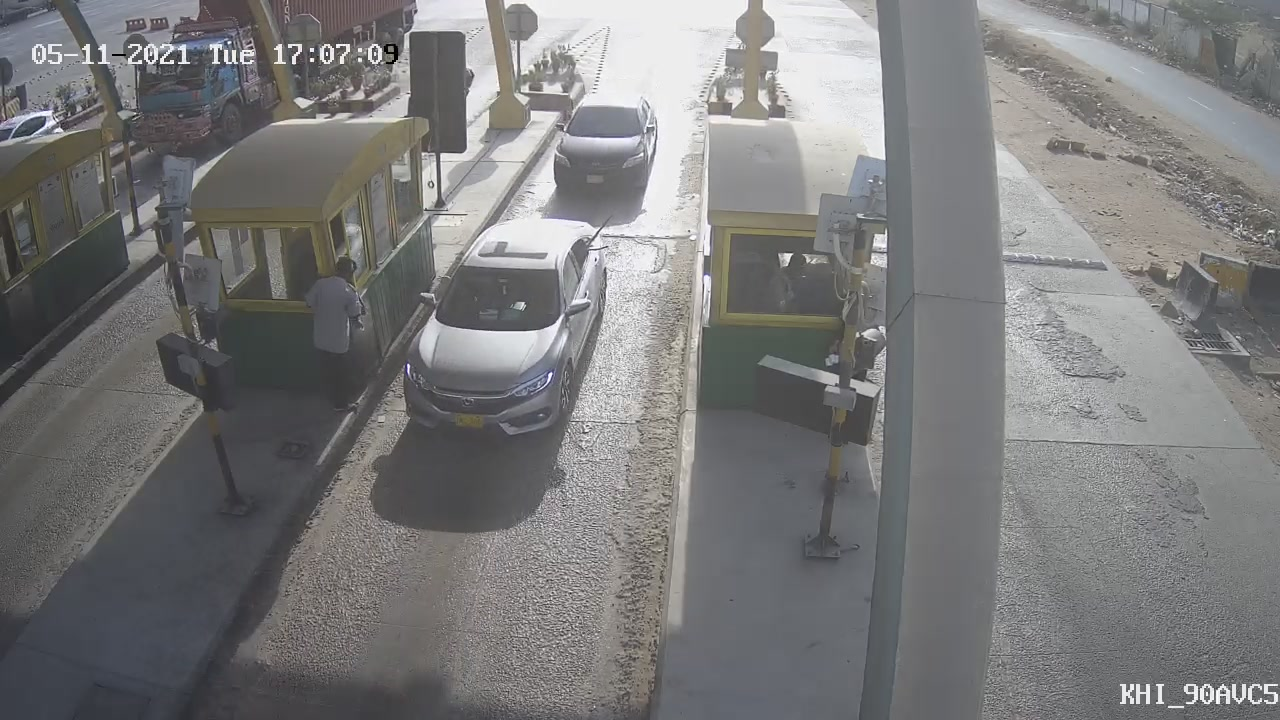F1: (379, 196, 634, 460), (539, 72, 678, 214)
